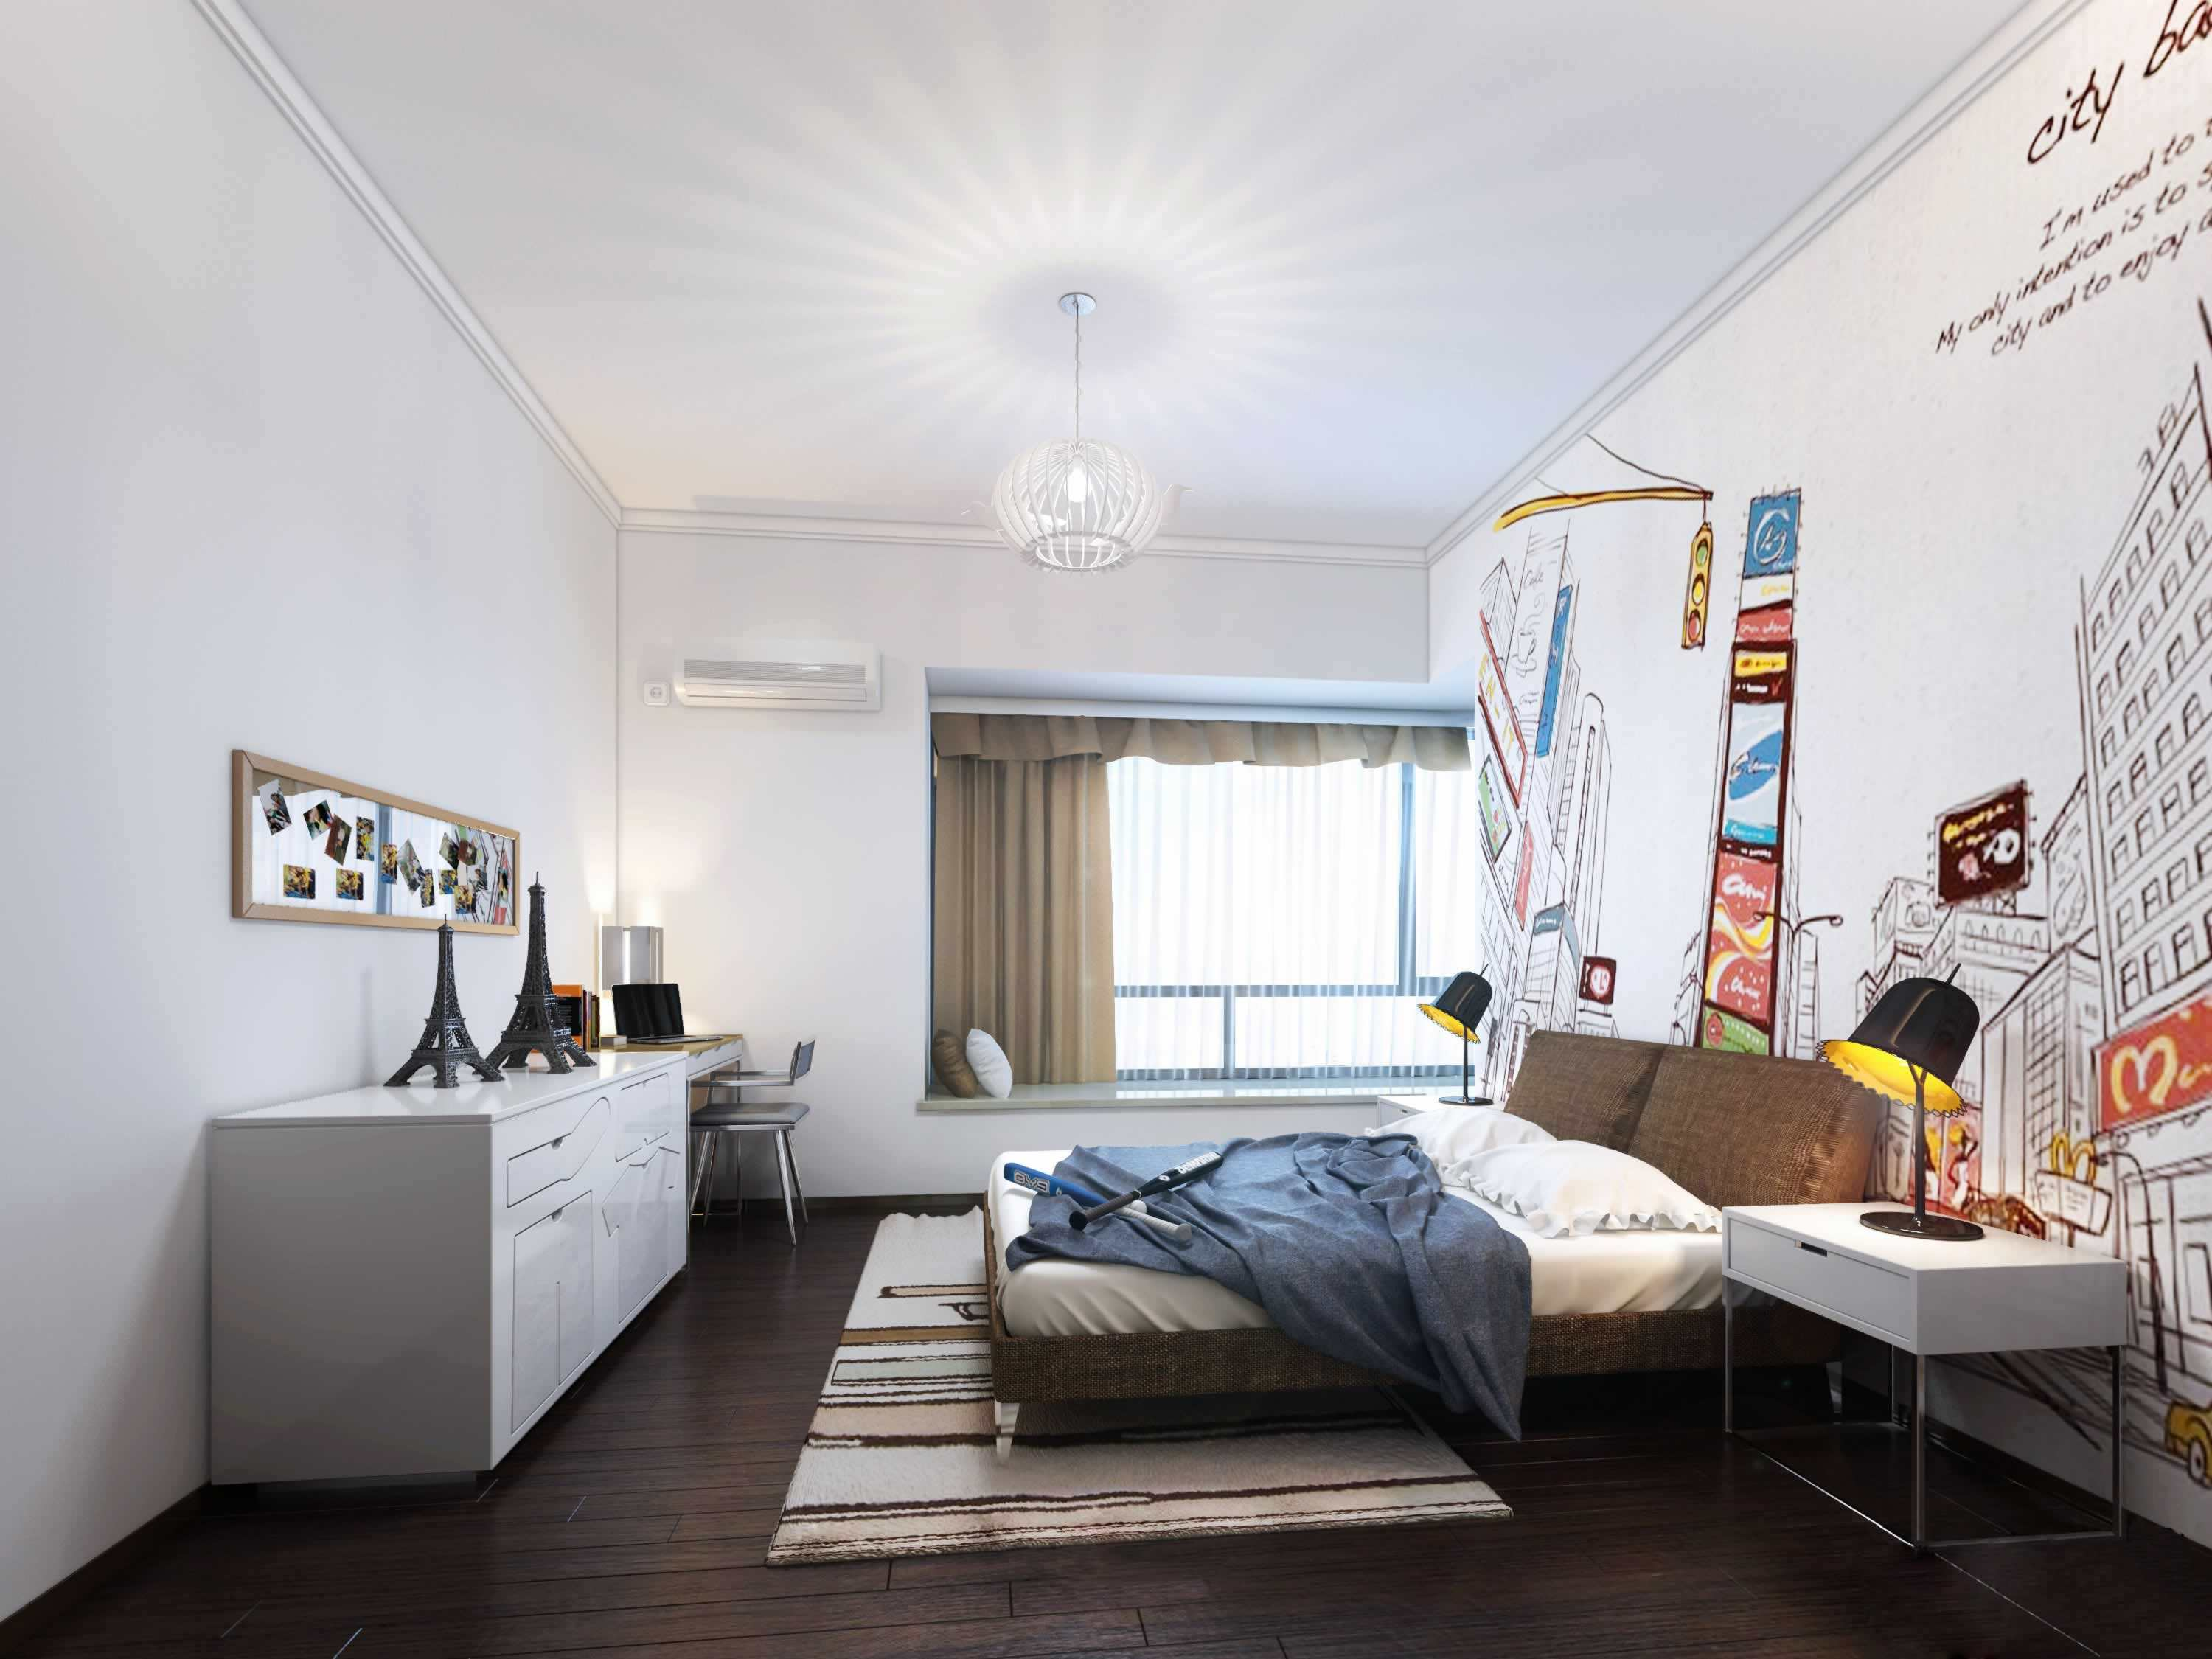床: (920, 1119, 1799, 1459)
枕头: (1390, 1101, 1733, 1262)
灯: (986, 291, 1188, 598), (1834, 965, 2006, 1256), (1425, 957, 1503, 1094)
